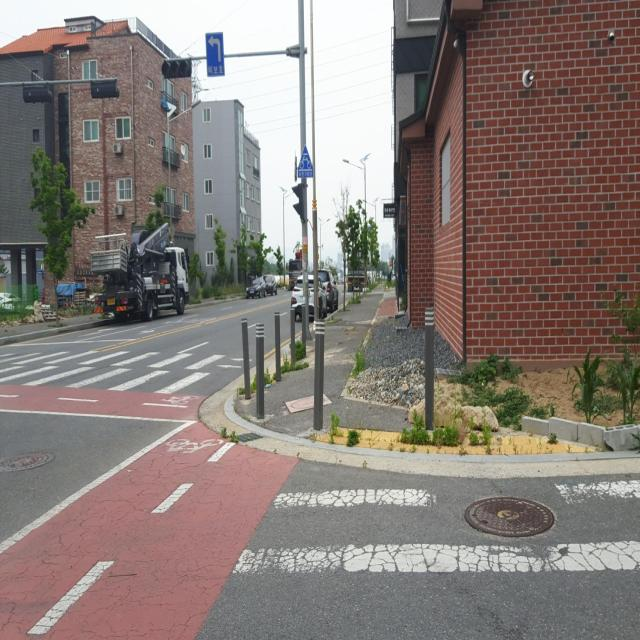횡단보도: (230, 475, 640, 574), (0, 349, 227, 399)
